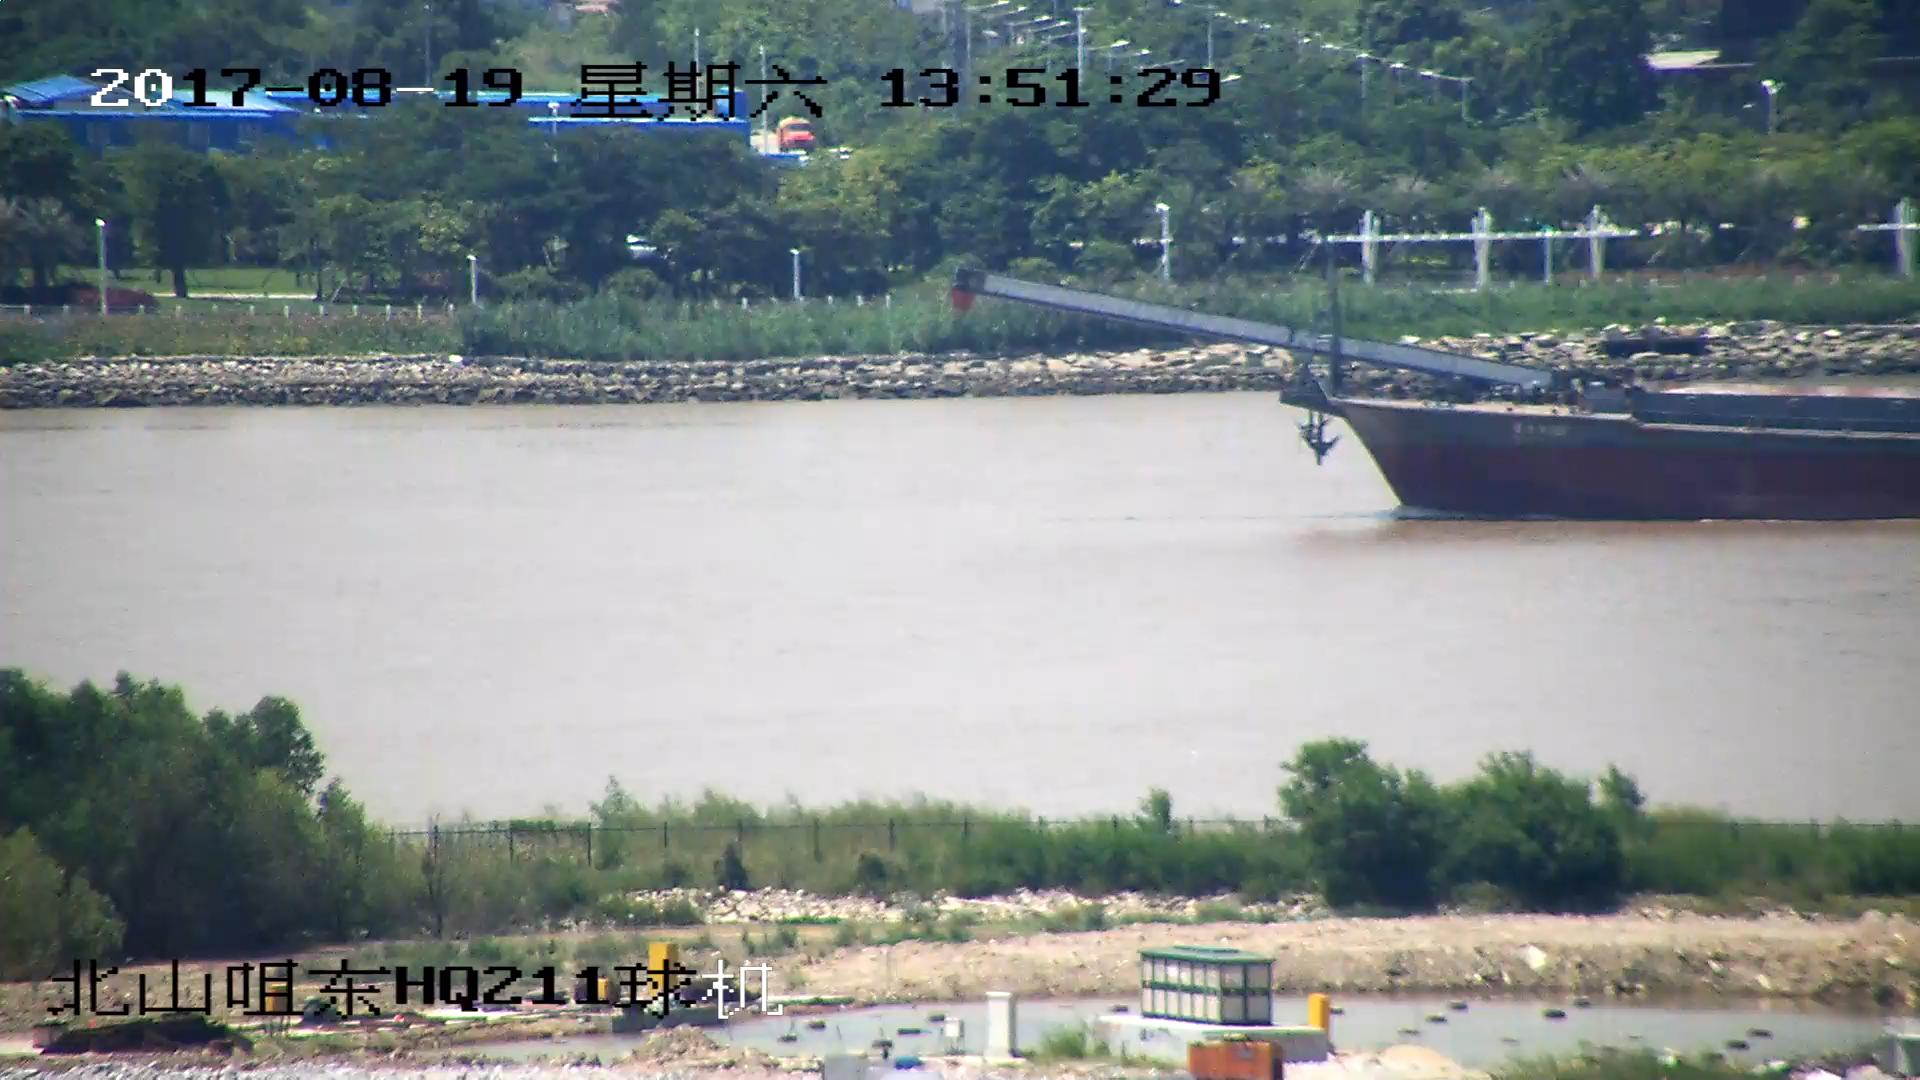bulk cargo carrier: (953, 261, 1920, 525)
